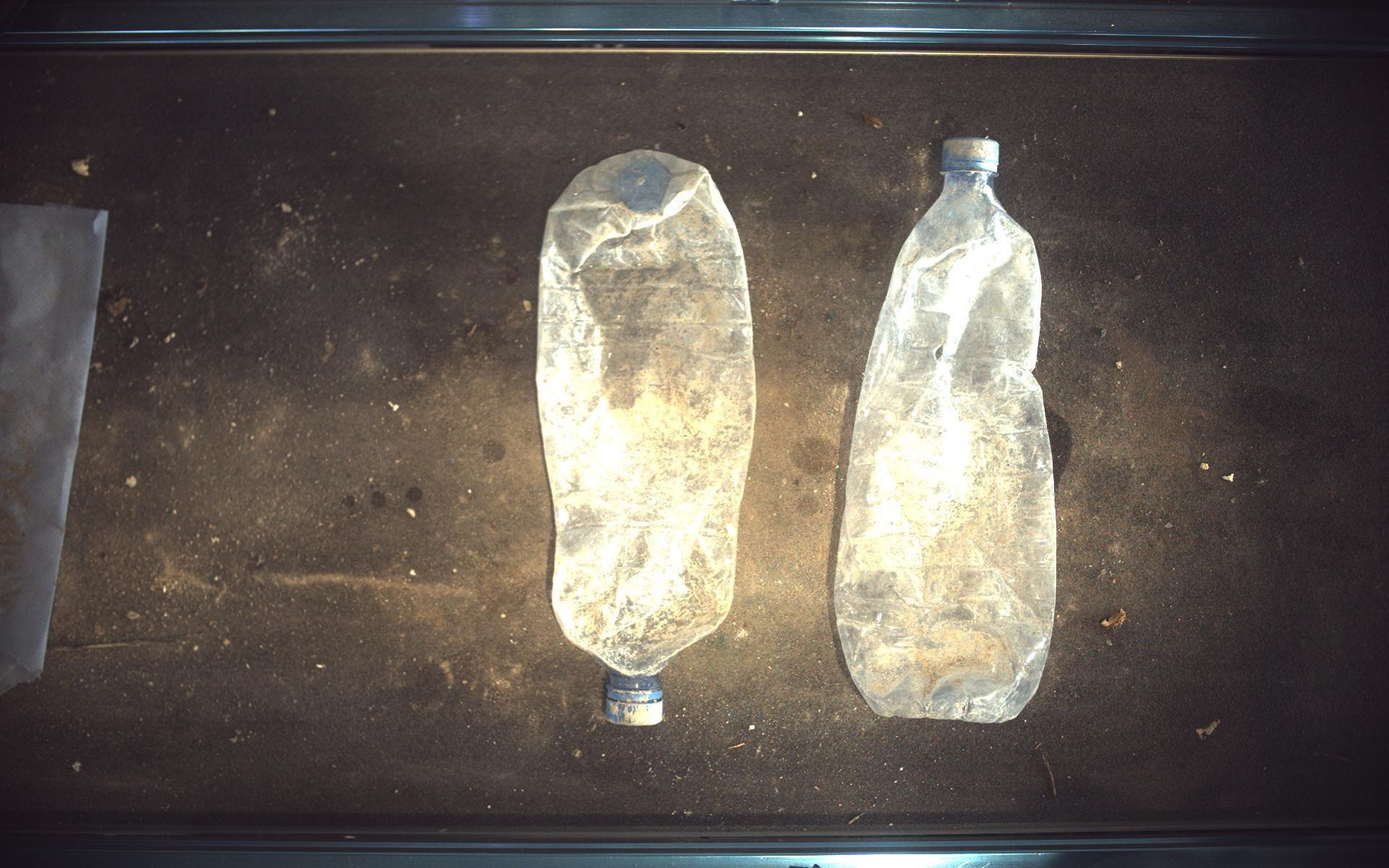general_w: (836, 137, 1058, 724), (537, 149, 757, 727)
